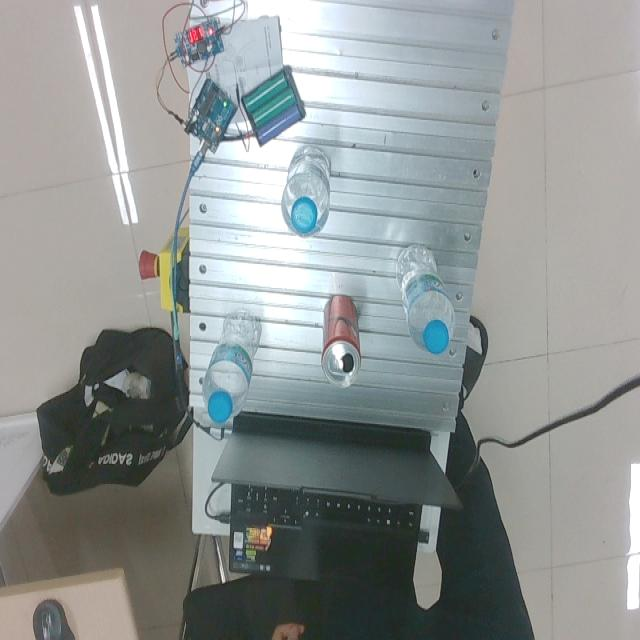coca: (321, 295, 362, 388)
lavie: (393, 244, 455, 356), (202, 311, 261, 425), (281, 147, 330, 237)
